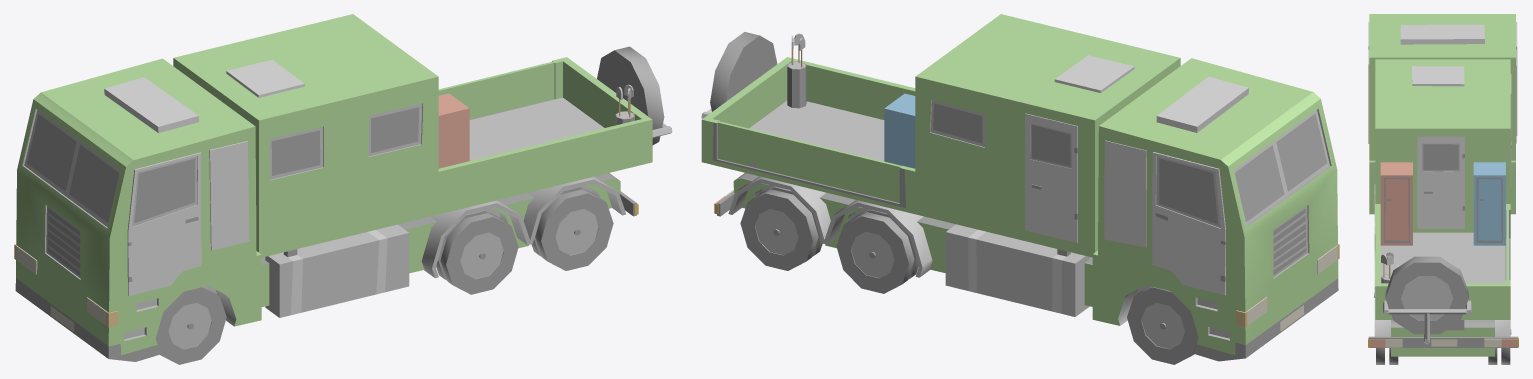
File: kar.fbx
The picture shows the model from 3 angles, left to right: view 1: azimuth 30°, elevation 25°; view 2: azimuth 150°, elevation 25°; view 3: azimuth 270°, elevation 25°; orthographic projection. The views are drawn at different scales.
Parts seen in each view (by area): view 1: Cylinder_7, Extrude_1_1, Cylinder_4_1, Cylinder_3_1, Cylinder_1_1, Cube_1; view 2: Cylinder_7, Extrude_2_1, Cube_1, Cube_5, Cylinder_5_1, Cylinder_1, Cylinder_2_1; view 3: Cylinder_7, Cube_5_1, Cylinder_1, Cylinder_3_1, Extrude_2_1, Cube_5, Cube_1.
Boxes of the visible parts, left/top/right/bottom form: Cylinder_7: left=14, top=14, right=672, bottom=361; Extrude_1_1: left=127, top=152, right=201, bottom=295; Cylinder_4_1: left=436, top=210, right=518, bottom=294; Cylinder_3_1: left=531, top=186, right=613, bottom=270; Cylinder_1_1: left=155, top=287, right=226, bottom=364; Cube_1: left=438, top=61, right=554, bottom=119; Cylinder_7: left=701, top=14, right=1339, bottom=361; Extrude_2_1: left=1152, top=152, right=1225, bottom=295; Cube_1: left=718, top=121, right=901, bottom=202; Cube_5: left=1025, top=113, right=1077, bottom=242; Cylinder_5_1: left=836, top=209, right=918, bottom=293; Cylinder_1: left=740, top=186, right=822, bottom=270; Cylinder_2_1: left=1127, top=286, right=1198, bottom=364; Cylinder_7: left=1368, top=14, right=1518, bottom=356; Cube_5_1: left=1417, top=136, right=1464, bottom=228; Cylinder_1: left=1488, top=329, right=1511, bottom=364; Cylinder_3_1: left=1376, top=348, right=1398, bottom=364; Extrude_2_1: left=1516, top=22, right=1517, bottom=135; Cube_5: left=1510, top=74, right=1511, bottom=185; Cube_1: left=1506, top=210, right=1508, bottom=280.
Bounding box in the file's own units: 870 × 333 × 251.
